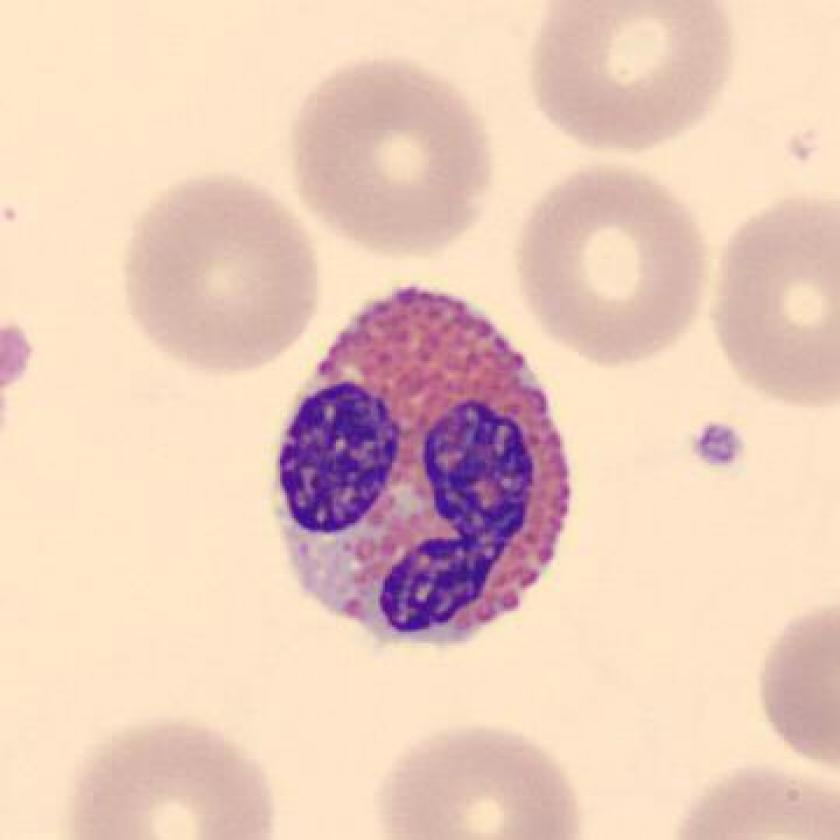eosinophil: (260, 274, 582, 663)
